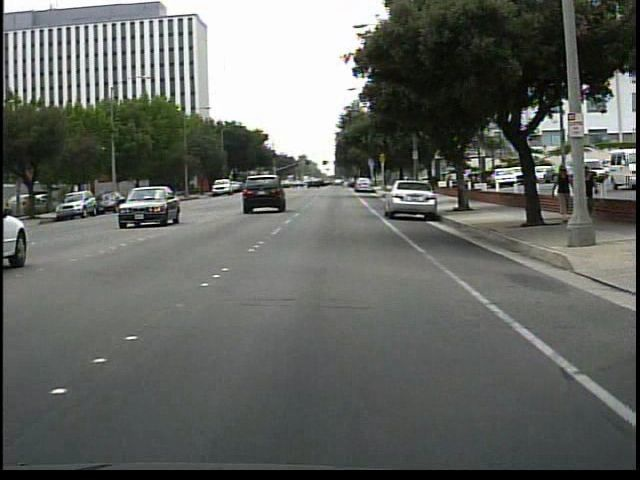person: (549, 158, 572, 226), (579, 160, 601, 223)
